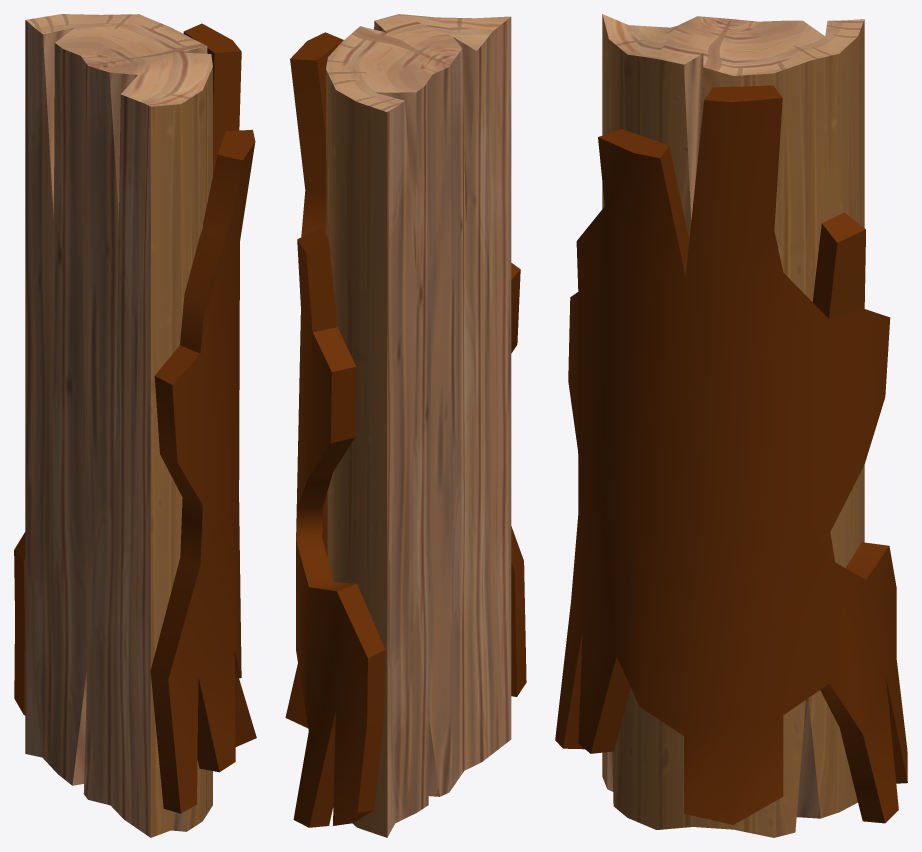
Rendered from obj_harvest_log_m01.fbx.
The picture shows the model from 3 angles, left to right: view 1: azimuth 30°, elevation 25°; view 2: azimuth 150°, elevation 25°; view 3: azimuth 270°, elevation 25°; orthographic projection. The views are drawn at different scales.
Visible parts, largest first — view 1: obj_harvest_log_m01; view 2: obj_harvest_log_m01; view 3: obj_harvest_log_m01.
Part boxes in pixels (<box>): obj_harvest_log_m01: <box>14,14,256,837</box>; obj_harvest_log_m01: <box>285,14,526,837</box>; obj_harvest_log_m01: <box>555,14,907,837</box>.
Size of the model in its own units: 1.76 by 8 by 3.32.
